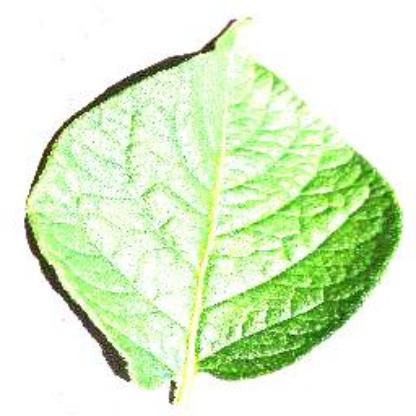Healthy-plant: (25, 15, 408, 405)
